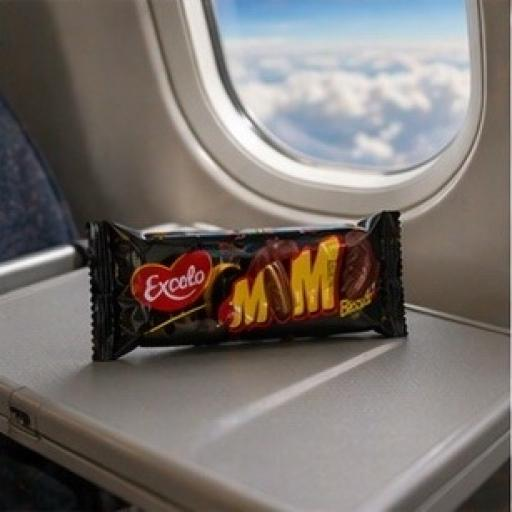MOMO: (72, 204, 442, 362)
